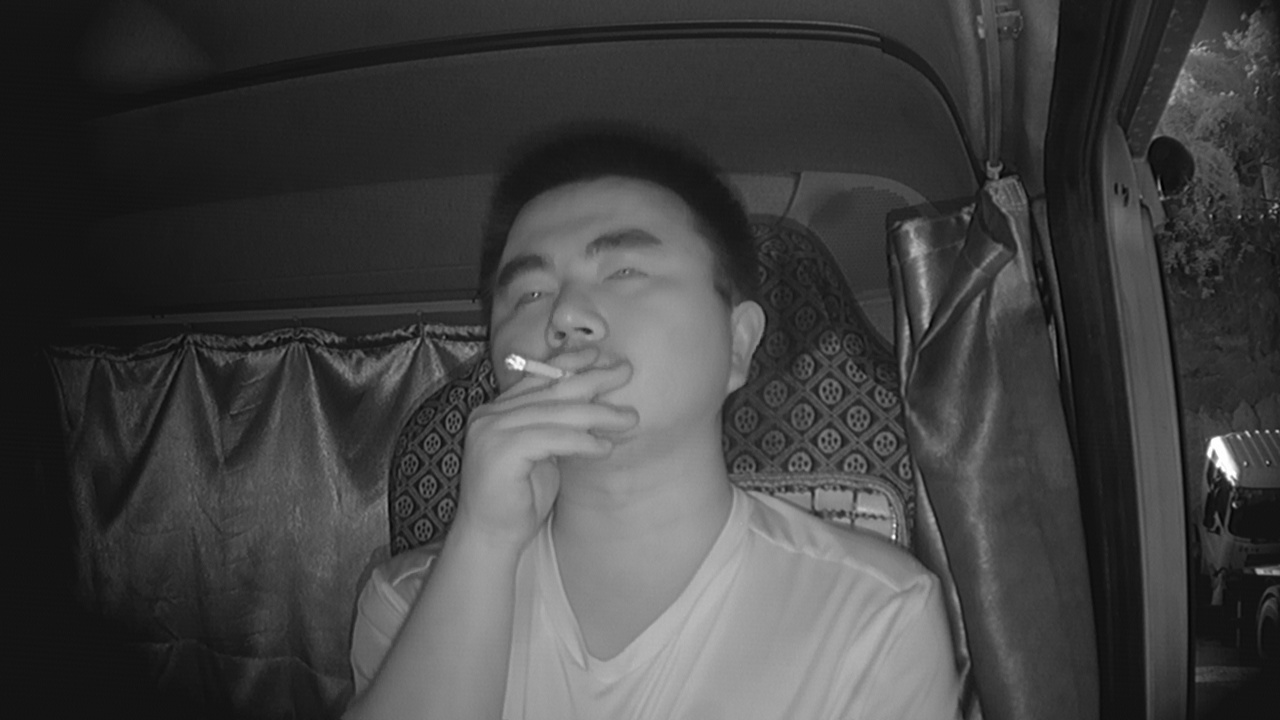hand: (467, 347, 642, 530)
